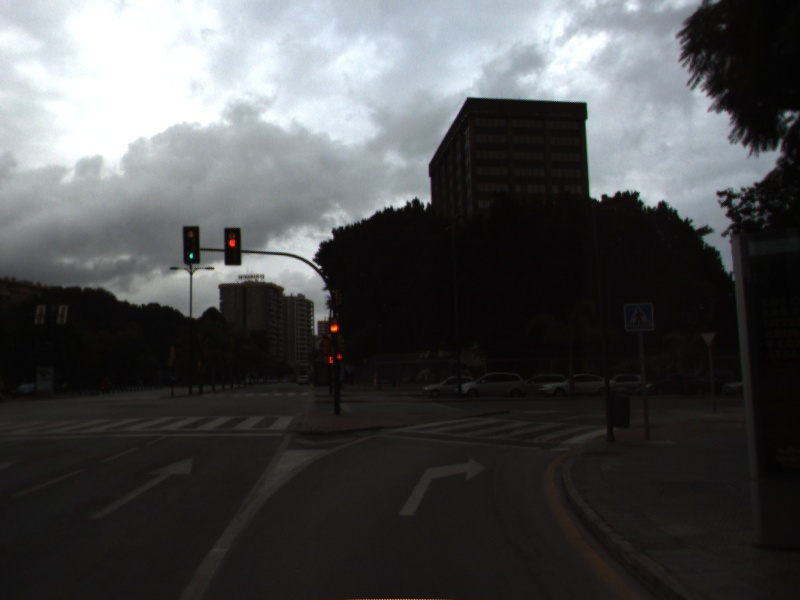RIGHT: (395, 452, 492, 519)
STRAIGHT: (87, 450, 197, 523)
